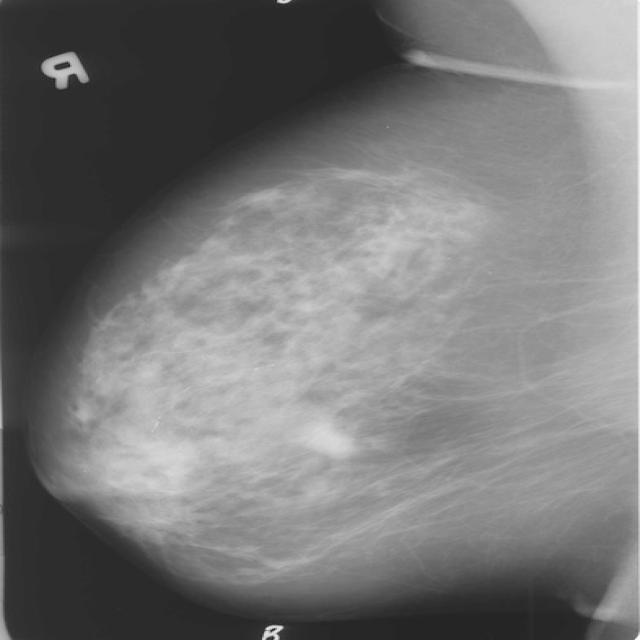tumour: (293, 421, 354, 458)
